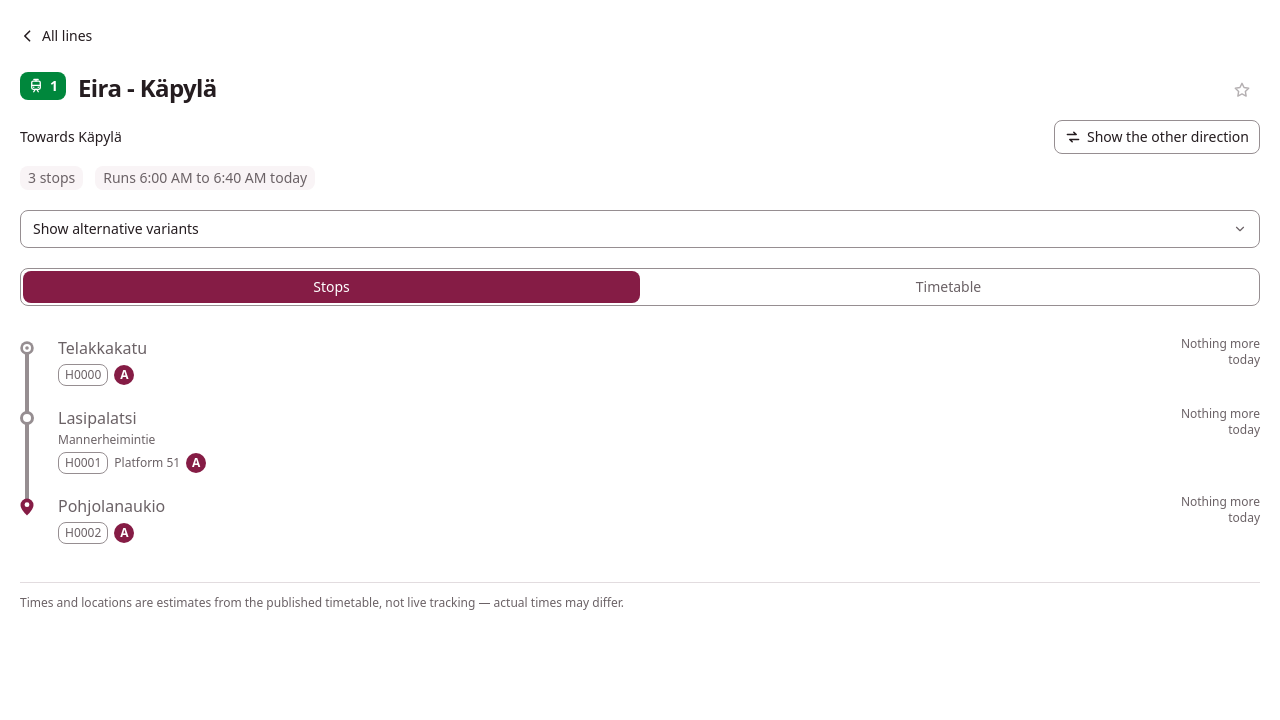
Scenario: RouteInspector › the timetable › drops a trip that does not make both of the chosen stops
The width and height of the screenshot is (1280, 720).
Expected: the heading "Eira - Käpylä" is shown, [78,71,217,104]
Click the radio button labelled "Timetable": click(948, 287) [640,271,1257,303]
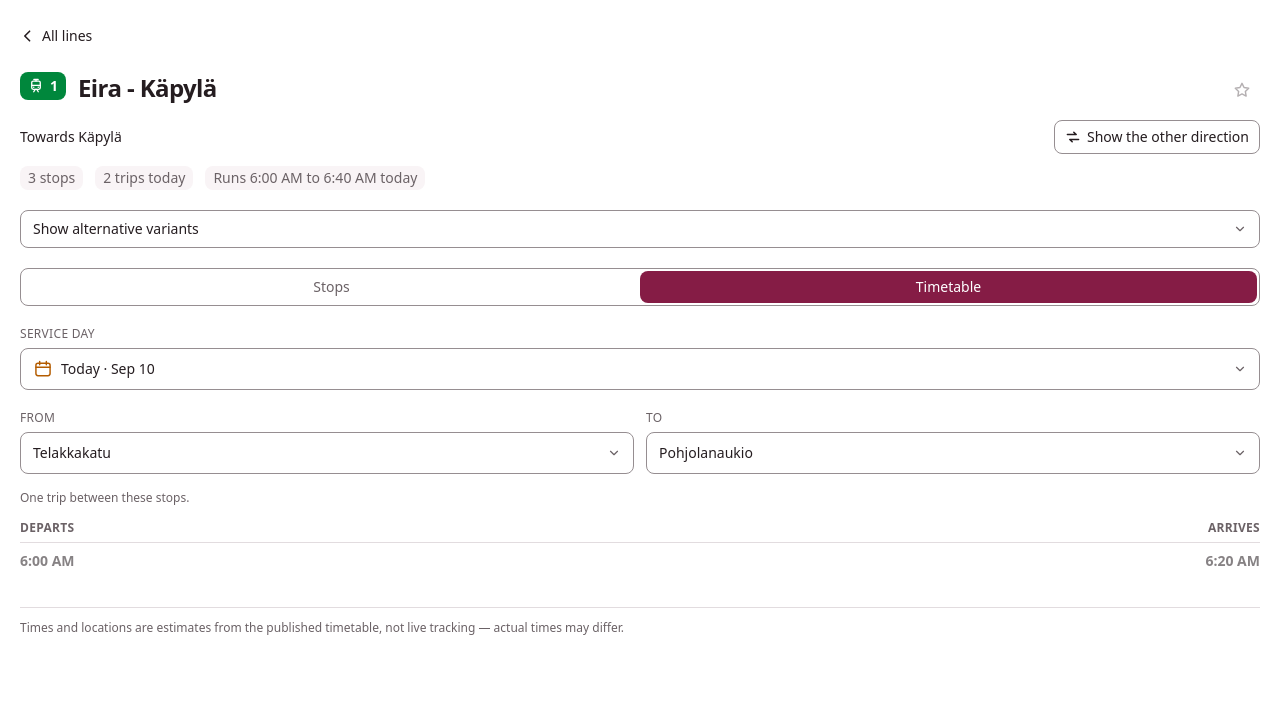
Result: the text "One trip between these stops." is shown at [20,489,189,506]
